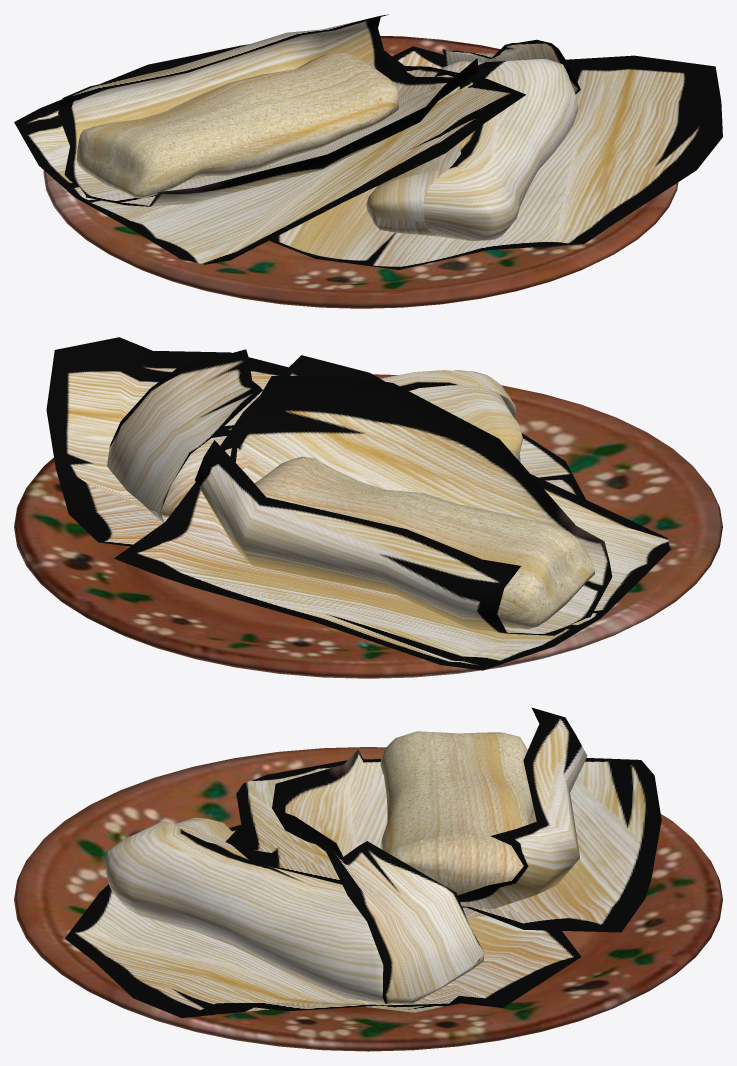
File: tamales.fbx
The picture shows the model from 3 angles, top to bottom: view 1: azimuth 30°, elevation 25°; view 2: azimuth 150°, elevation 25°; view 3: azimuth 270°, elevation 25°; orthographic projection. The views are drawn at different scales.
Visible parts, largest first — view 1: TAMAL1; view 2: TAMAL1; view 3: TAMAL1.
Part boxes in pixels (x1,y1,x2,y2): TAMAL1: (14,14,722,308); TAMAL1: (14,337,722,678); TAMAL1: (14,707,722,1051).
Bounding box in the file's own units: 44.73 × 9.3 × 41.55.
1 material, 1 textured.
